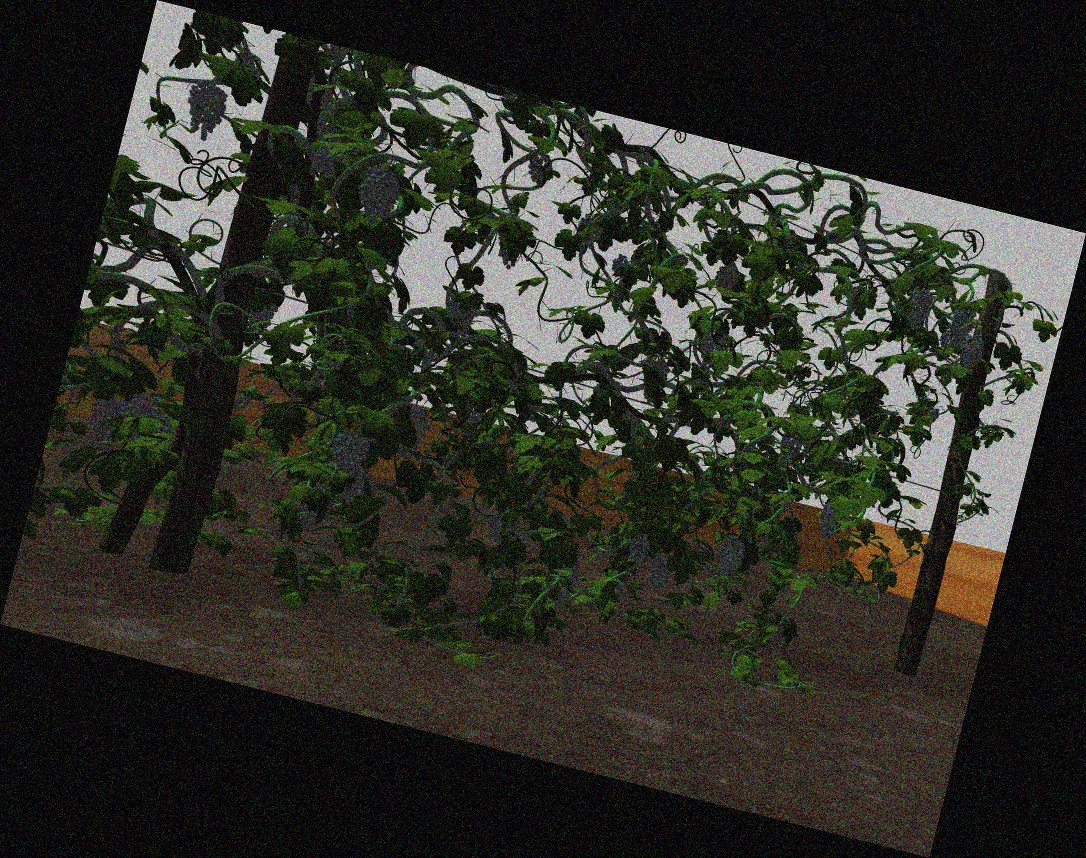grape: (328, 432, 372, 502), (184, 82, 227, 139), (358, 167, 398, 222), (396, 405, 430, 459), (88, 397, 119, 443), (446, 296, 476, 337), (124, 395, 168, 421), (907, 287, 932, 329), (718, 535, 743, 577), (649, 550, 673, 592), (818, 503, 842, 538), (715, 263, 741, 295), (951, 305, 974, 341), (960, 334, 984, 368), (314, 148, 343, 176), (627, 536, 649, 565), (524, 160, 548, 184), (611, 253, 632, 273)
